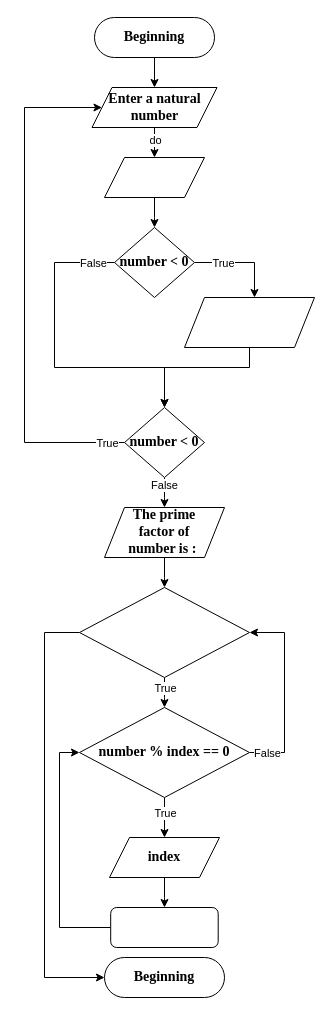
Image size: 332x1015. Some labels were removed from this diagram. The box of each missing label's shape, as (x1, y1, x2, y2) in pixels:
index = 2; index < = number; index++: (78, 586, 250, 678)
number: (104, 156, 204, 198)
number = number / index: (110, 906, 218, 948)
The input has to be a natural number: (184, 296, 314, 348)
